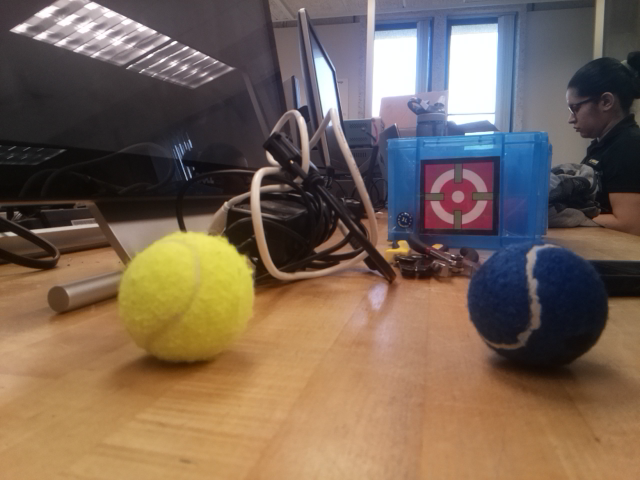blue-ball: (465, 237, 610, 374)
drop-bin: (417, 154, 501, 236)
yellow-ball: (117, 230, 256, 365)
